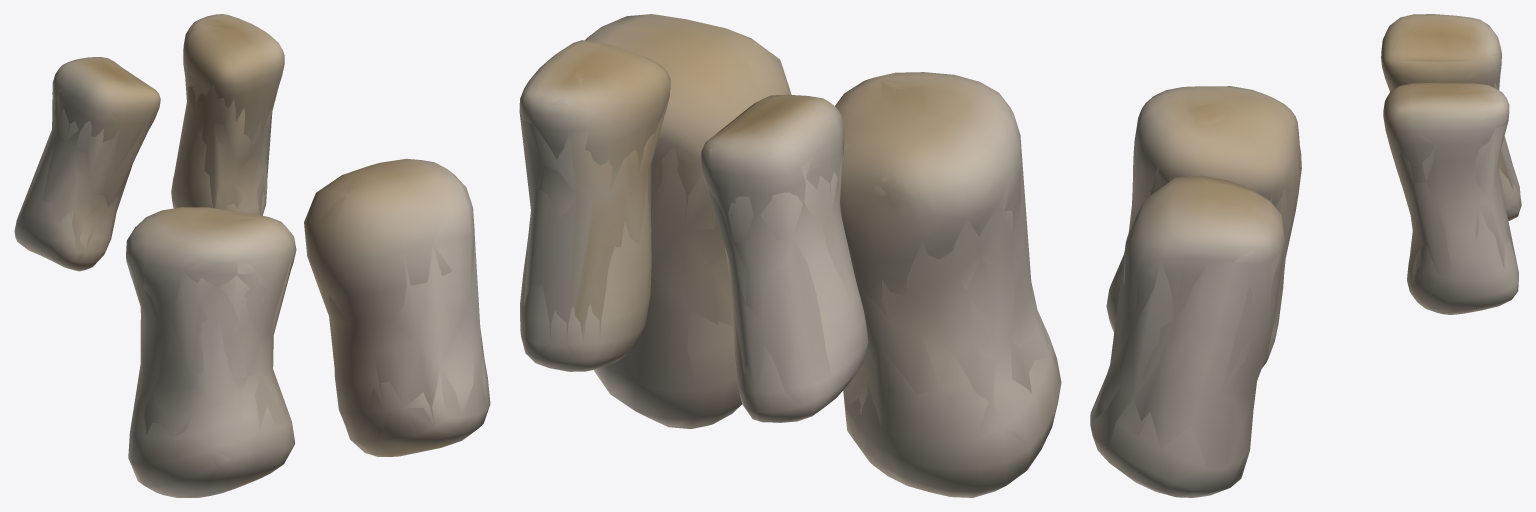
Rendered from FR 1st Phalanx.fbx.
The picture shows the model from 3 angles, left to right: view 1: azimuth 30°, elevation 25°; view 2: azimuth 150°, elevation 25°; view 3: azimuth 270°, elevation 25°; orthographic projection. The views are drawn at different scales.
Parts seen in each view (by area): view 1: FR 1st Phalanx, FR 1st Phalanx low; view 2: FR 1st Phalanx, FR 1st Phalanx low; view 3: FR 1st Phalanx, FR 1st Phalanx low.
Part boxes in pixels (x1,y1,x2,y2): FR 1st Phalanx: (14, 14, 490, 497); FR 1st Phalanx low: (17, 23, 487, 495); FR 1st Phalanx: (519, 14, 1061, 497); FR 1st Phalanx low: (519, 14, 1051, 497); FR 1st Phalanx: (1090, 14, 1521, 497); FR 1st Phalanx low: (1090, 22, 1521, 497).
Size of the model in its own units: 2.6 by 2.64 by 2.75.
